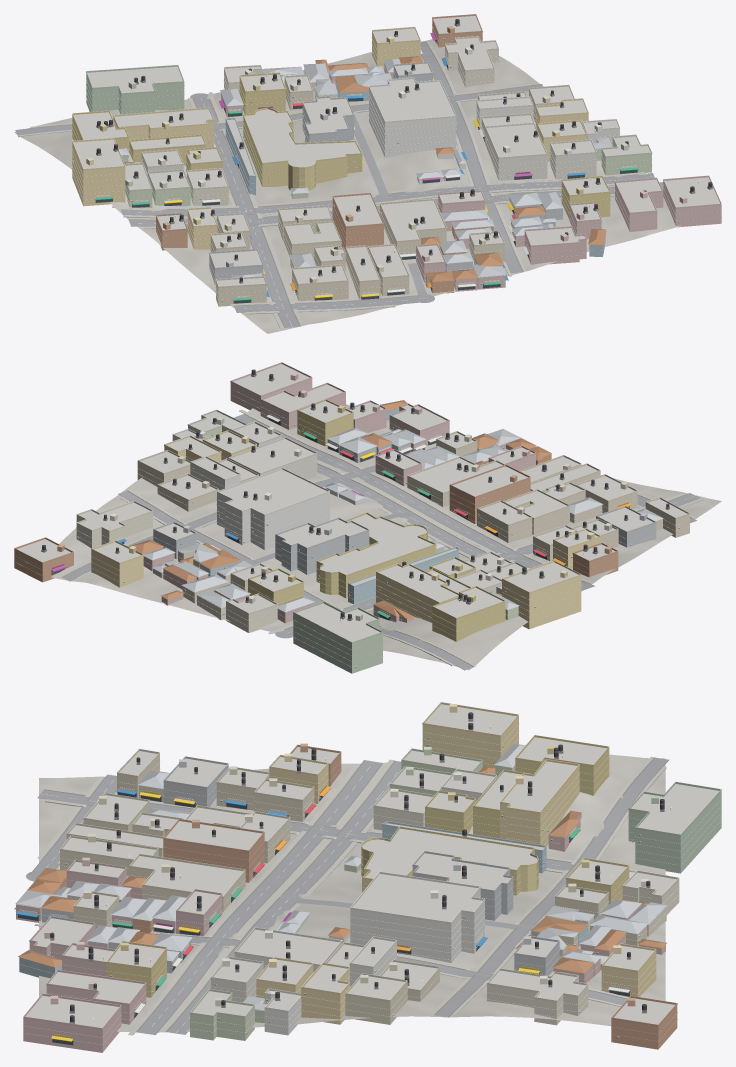
3 views of the same model, one above another, from view 1: azimuth 30°, elevation 25°; view 2: azimuth 150°, elevation 25°; view 3: azimuth 270°, elevation 25° (orthographic). The views are drawn at different scales.
Parts seen in each view (by area): view 1: Buildings-col, Details, Terrain-col, Roads-col, Sidewalks-col; view 2: Buildings-col, Details, Terrain-col, Roads-col, Sidewalks-col; view 3: Buildings-col, Details, Terrain-col, Roads-col, Sidewalks-col.
Part boxes in pixels (x1,y1,x2,y2): Buildings-col: (72,15,721,306); Details: (72,14,721,303); Terrain-col: (14,39,682,333); Roads-col: (15,41,663,327); Sidewalks-col: (17,41,663,328); Buildings-col: (14,364,689,673); Details: (14,362,689,667); Terrain-col: (51,404,721,670); Roads-col: (62,414,700,670); Sidewalks-col: (60,409,703,666); Buildings-col: (15,704,721,1052); Details: (14,702,721,1045); Terrain-col: (39,754,665,1032); Roads-col: (26,757,669,1034); Sidewalks-col: (34,756,667,1035).
Size of the model in its own units: 285 by 33.33 by 289.
